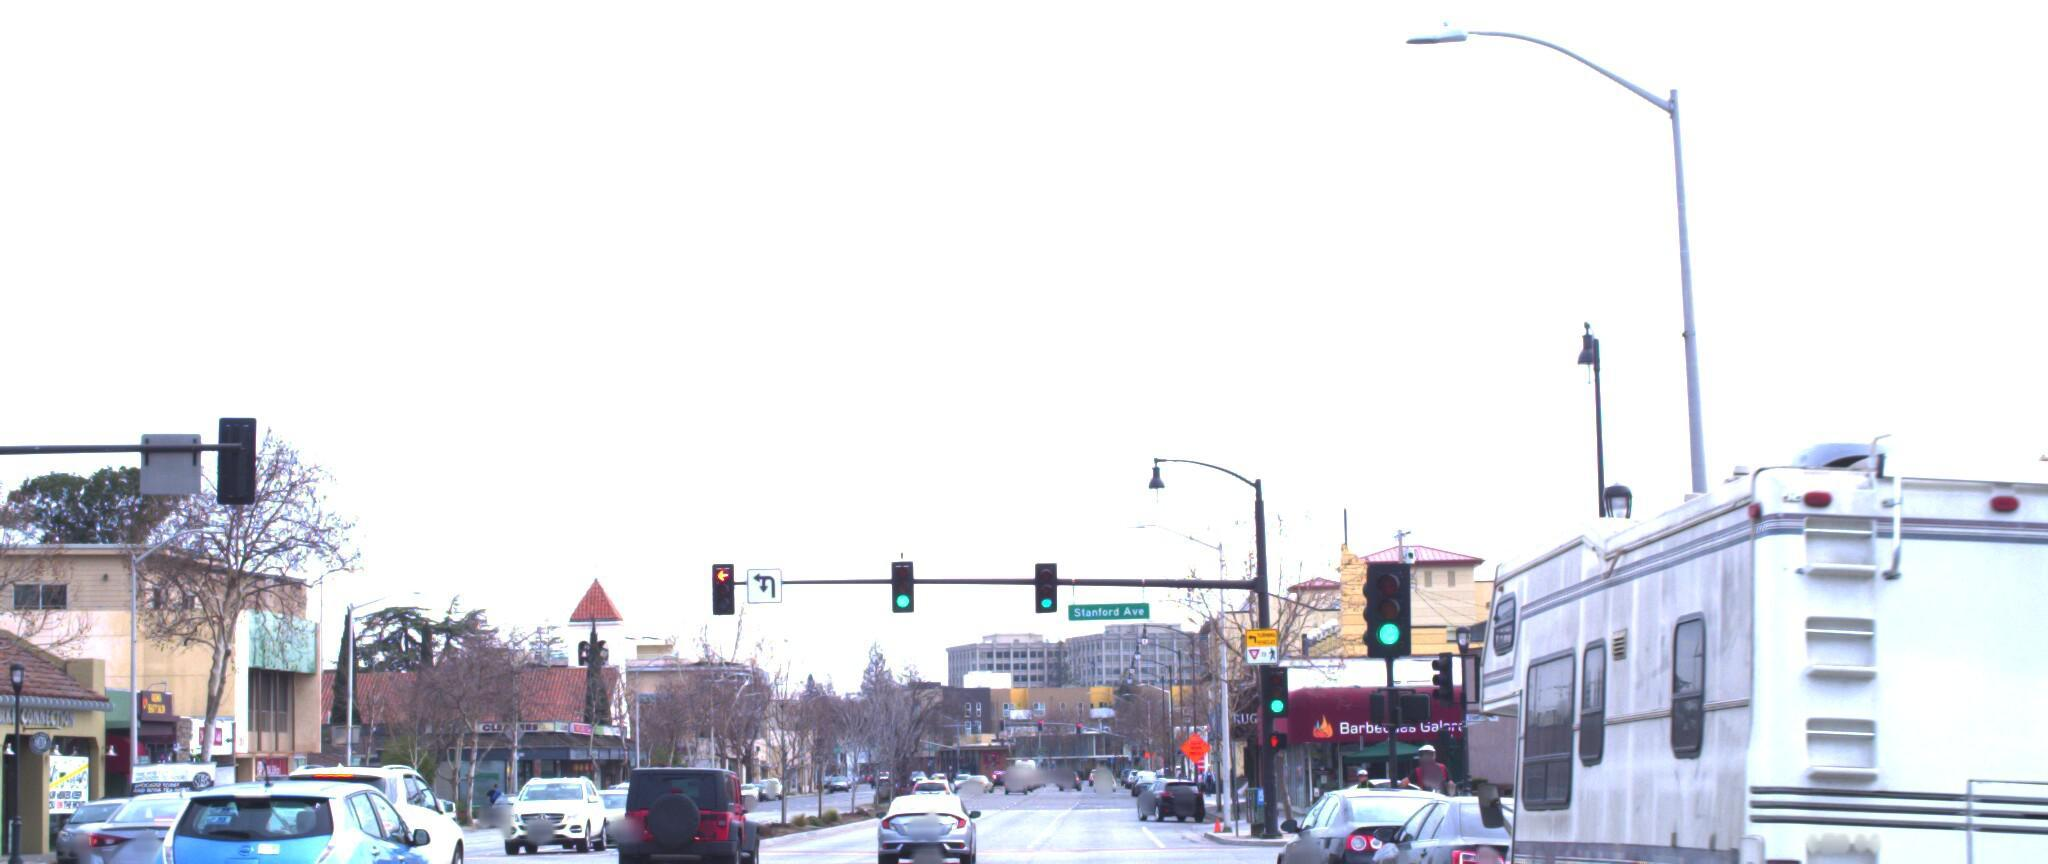bicycle: (1371, 739, 1490, 864)
car: (138, 762, 458, 864), (1903, 672, 2048, 864), (243, 758, 470, 864), (57, 780, 340, 864), (1356, 784, 1639, 864), (1260, 780, 1499, 864), (613, 764, 761, 864), (496, 773, 607, 854), (865, 780, 964, 864)
other_vehicle: (1438, 305, 2048, 864)
